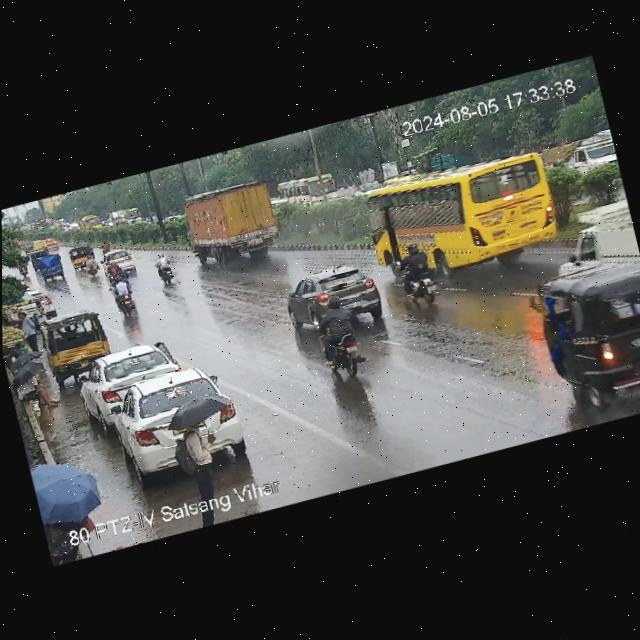bus: (352, 142, 562, 295), (276, 170, 345, 214), (107, 203, 143, 228), (79, 212, 103, 232)
car: (101, 358, 250, 490), (532, 253, 640, 422), (77, 338, 183, 418), (285, 256, 390, 334), (39, 308, 114, 376), (97, 242, 147, 278), (32, 248, 73, 286), (68, 241, 100, 271), (30, 238, 47, 254), (45, 236, 59, 251)
motorcycle: (312, 295, 366, 381), (395, 240, 441, 303), (107, 271, 143, 318), (152, 251, 185, 286), (78, 249, 102, 280), (100, 239, 111, 253)
person: (171, 411, 228, 496), (35, 481, 88, 567), (16, 369, 60, 413), (15, 307, 46, 354)
truck: (178, 177, 282, 271)
